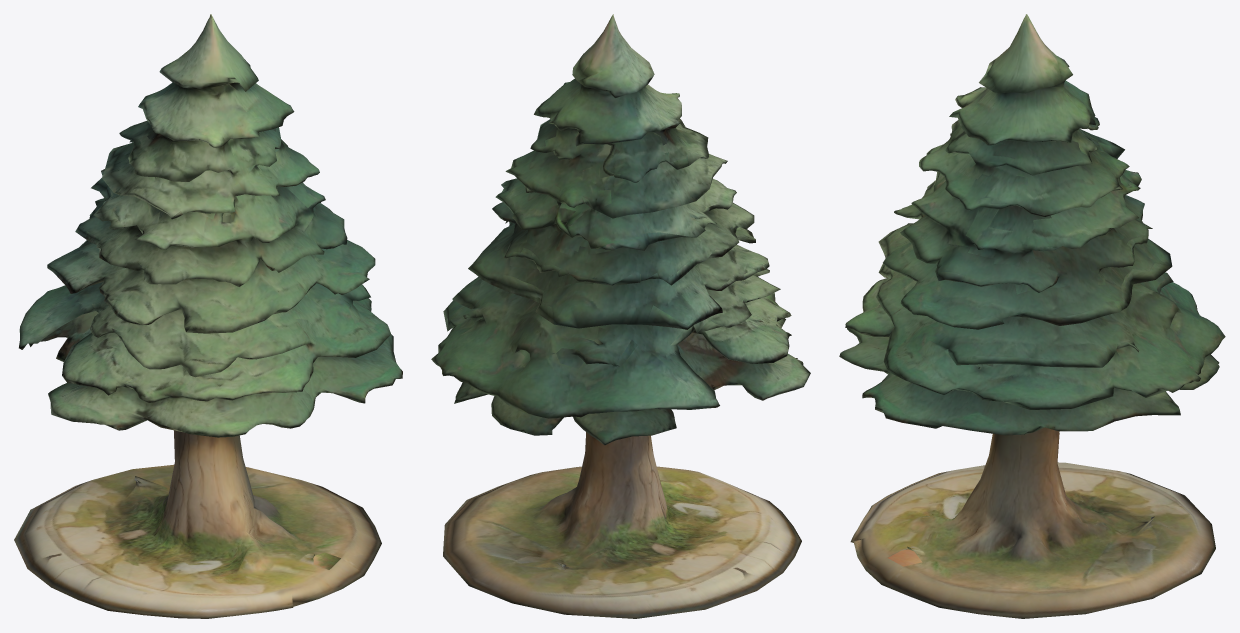
Rendered from tree_02.fbx.
3 renders of one model, left to right at view 1: azimuth 30°, elevation 25°; view 2: azimuth 150°, elevation 25°; view 3: azimuth 270°, elevation 25°, orthographic.
Visible parts, largest first — view 1: PineTree_05; view 2: PineTree_05; view 3: PineTree_05.
Boxes of the visible parts, x1,y1,x2,y2 form: PineTree_05: (14, 14, 402, 618); PineTree_05: (431, 14, 810, 618); PineTree_05: (839, 14, 1225, 618).
Size of the model in its own units: 434 by 654 by 430.
Materials: 1 (1 with a texture image).
